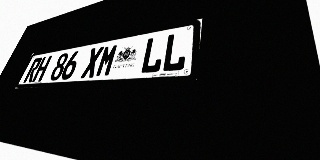6: (59, 50, 82, 80)
8: (48, 52, 70, 81)
H: (32, 55, 52, 82)
L: (161, 31, 189, 72), (139, 35, 166, 74)
M: (95, 43, 119, 77)
R: (23, 57, 43, 83)
X: (80, 46, 104, 78)
